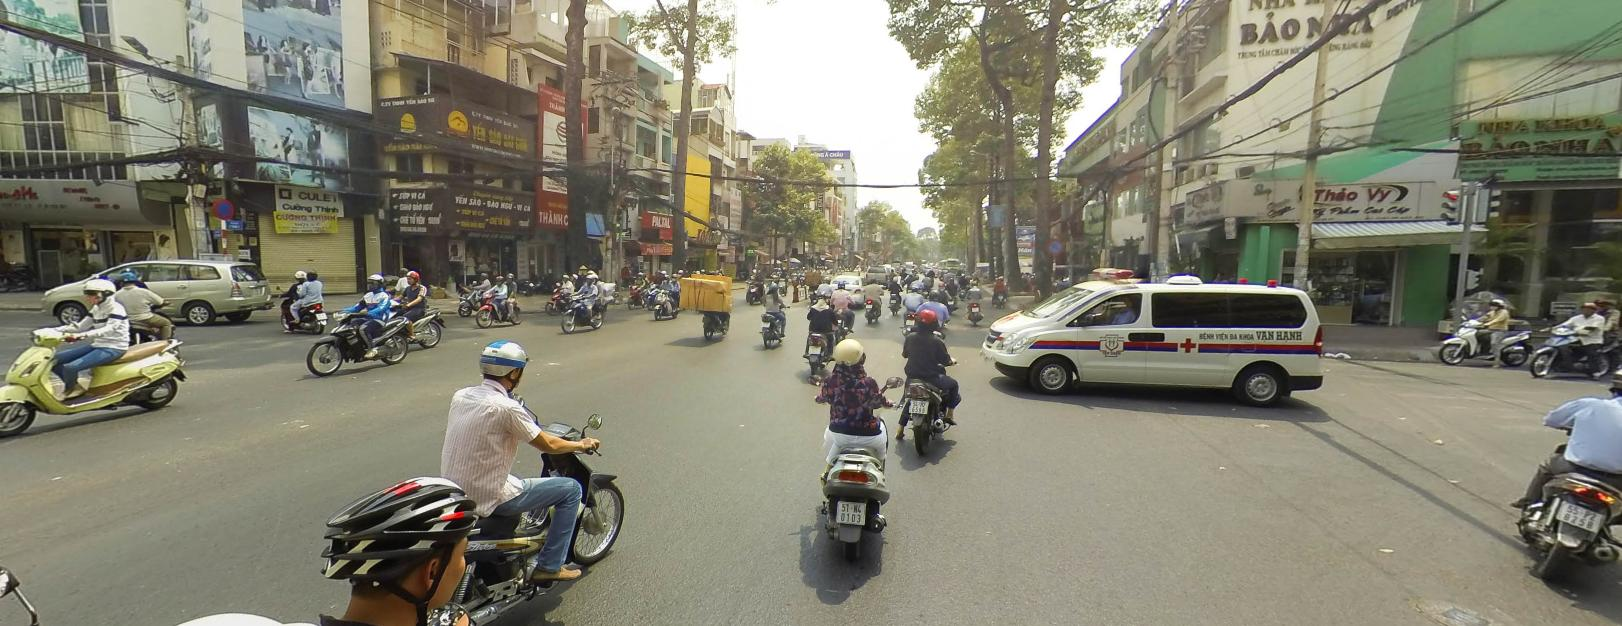Cam dung va do: (212, 197, 233, 217), (1046, 238, 1061, 254)
